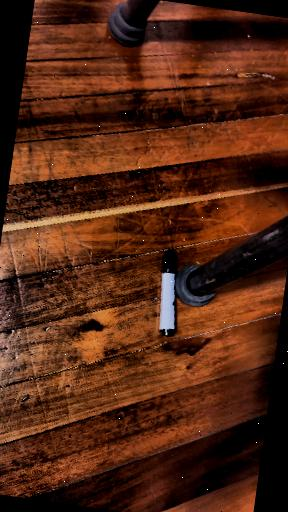marcador negro: (159, 250, 176, 336)
